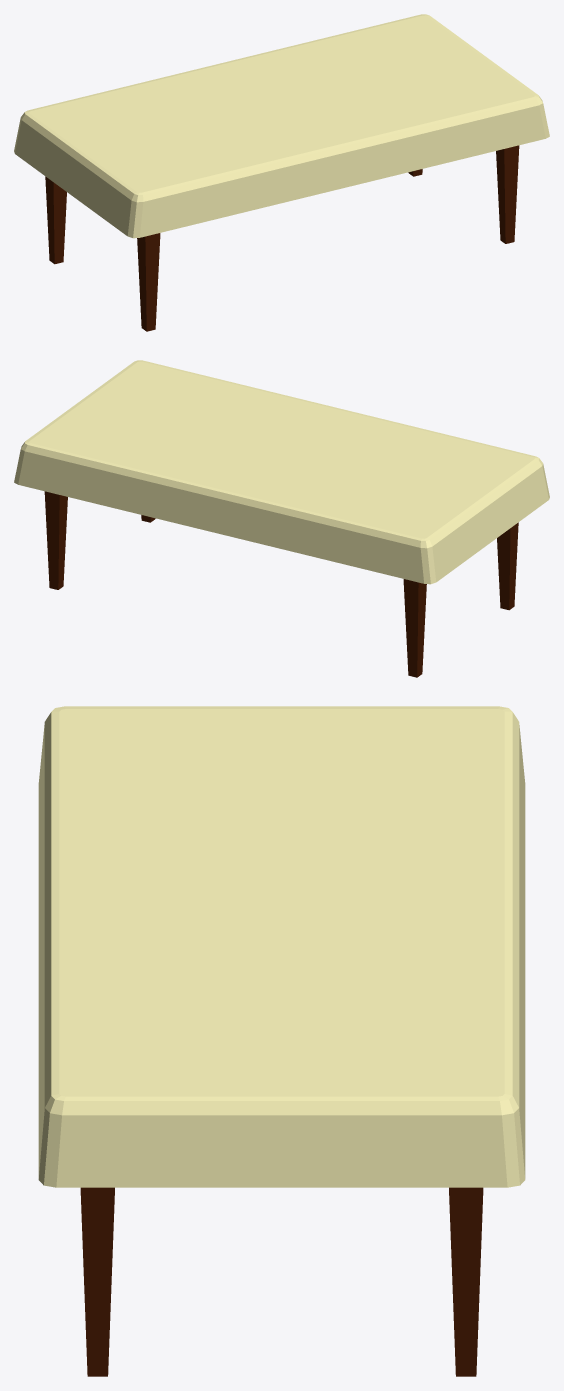
The model's file is rectangular_table.fbx.
3 renders of one model, top to bottom at view 1: azimuth 30°, elevation 25°; view 2: azimuth 150°, elevation 25°; view 3: azimuth 270°, elevation 25°, orthographic. The views are drawn at different scales.
Visible parts, largest first — view 1: Cube.001; view 2: Cube.001; view 3: Cube.001.
Part boxes in pixels (x1,y1,x2,y2): Cube.001: (14,14,549,331); Cube.001: (14,360,549,677); Cube.001: (38,706,525,1376).
Bounding box in the file's own units: 211 × 70.52 × 106.
